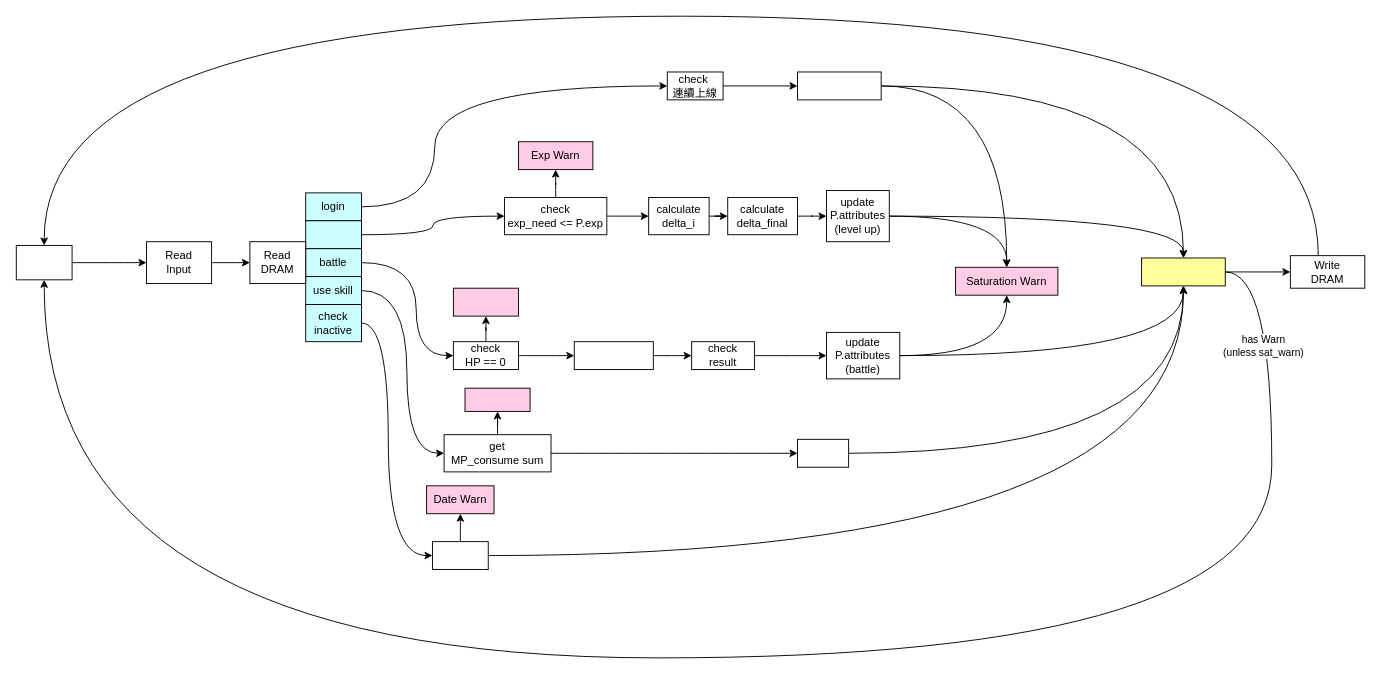
Image size: 1381x675. Some labels were removed from this diagram. The shapes that lost their labels are listed below. From the top down, each one's centre as x and y in pixels, then its label:
At (x=839, y=85): "update P.date, P.exp".
At (x=333, y=234): "level up".
At (x=43, y=262): "idle".
At (x=1183, y=271): "complete".
At (x=485, y=301): "HP Warn".
At (x=613, y=355): "calculate 2 HP_tmp".
At (x=497, y=399): "MP Warn".
At (x=823, y=452): "update P.mp".
At (x=460, y=555): "check date".
